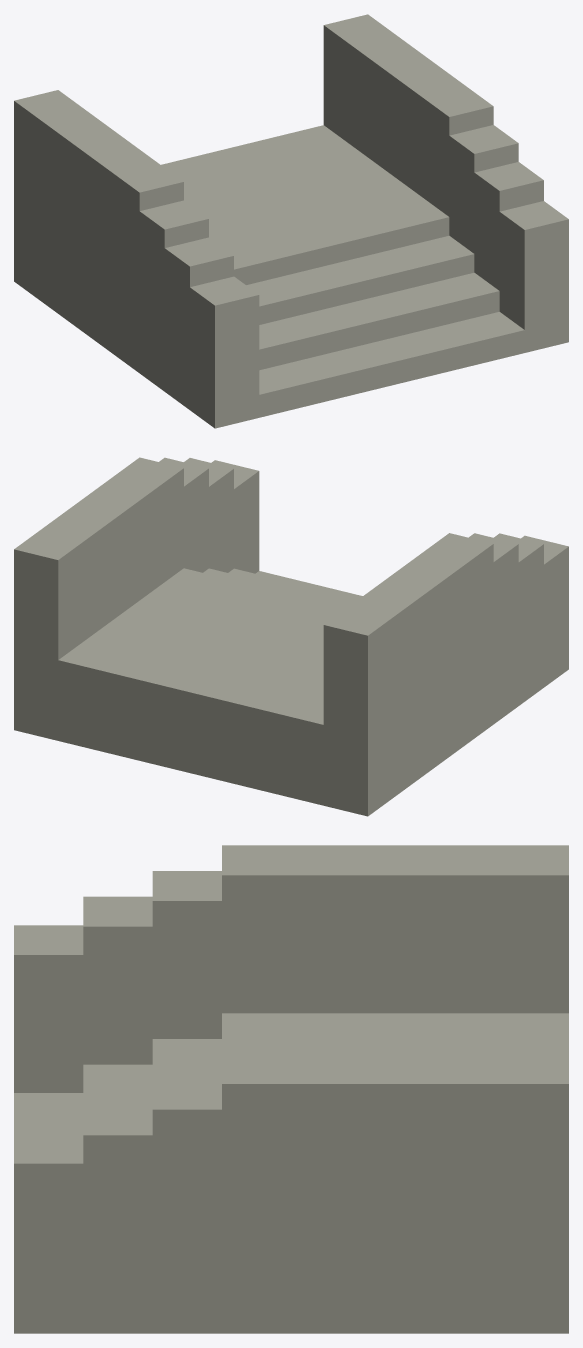
The model's file is Escalera(conFBX).fbx.
3 renders of one model, top to bottom at view 1: azimuth 30°, elevation 25°; view 2: azimuth 150°, elevation 25°; view 3: azimuth 270°, elevation 25°, orthographic. The views are drawn at different scales.
Parts seen in each view (by area): view 1: pCube1; view 2: pCube1; view 3: pCube1.
Boxes of the visible parts, x1,y1,x2,y2 form: pCube1: (14, 14, 568, 428); pCube1: (14, 457, 568, 816); pCube1: (14, 845, 568, 1333).
Size of the model in its own units: 2.78 by 1.36 by 2.74.
